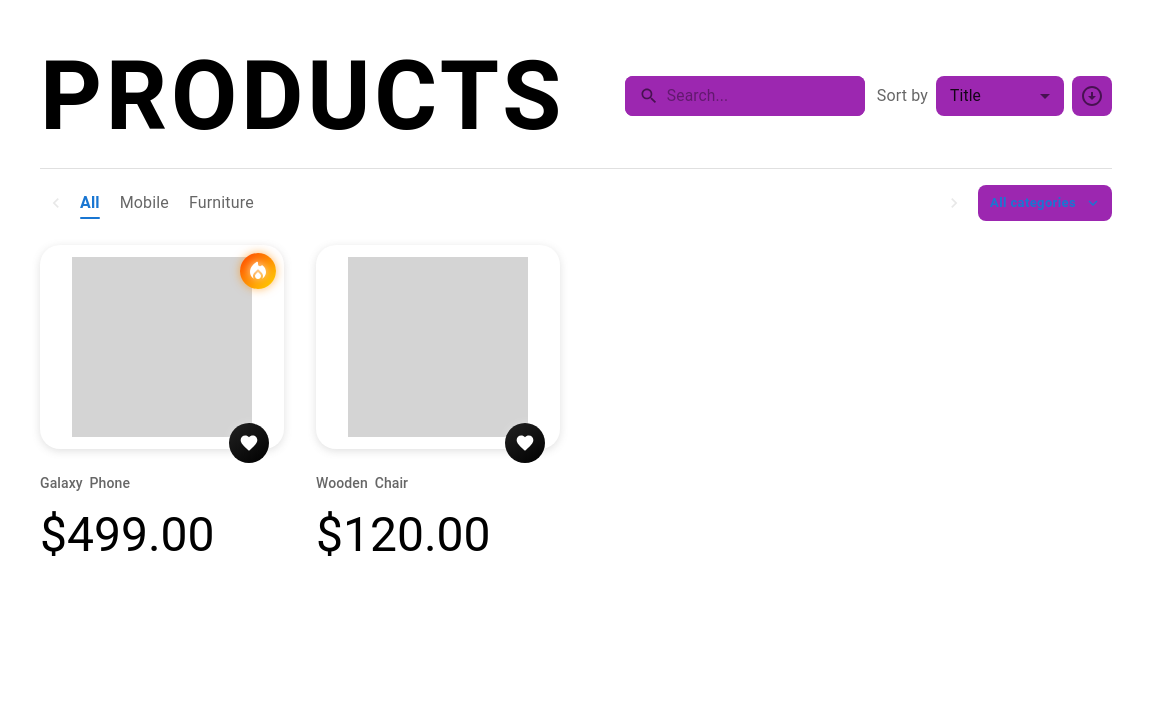
Home Products › filters products by search
Check: the heading "Galaxy Phone" is shown, box 40,475 -> 130,491
Step 1. Type "chair" into the field with placeholder "Search..." → (766, 96), box 667,79 -> 865,113
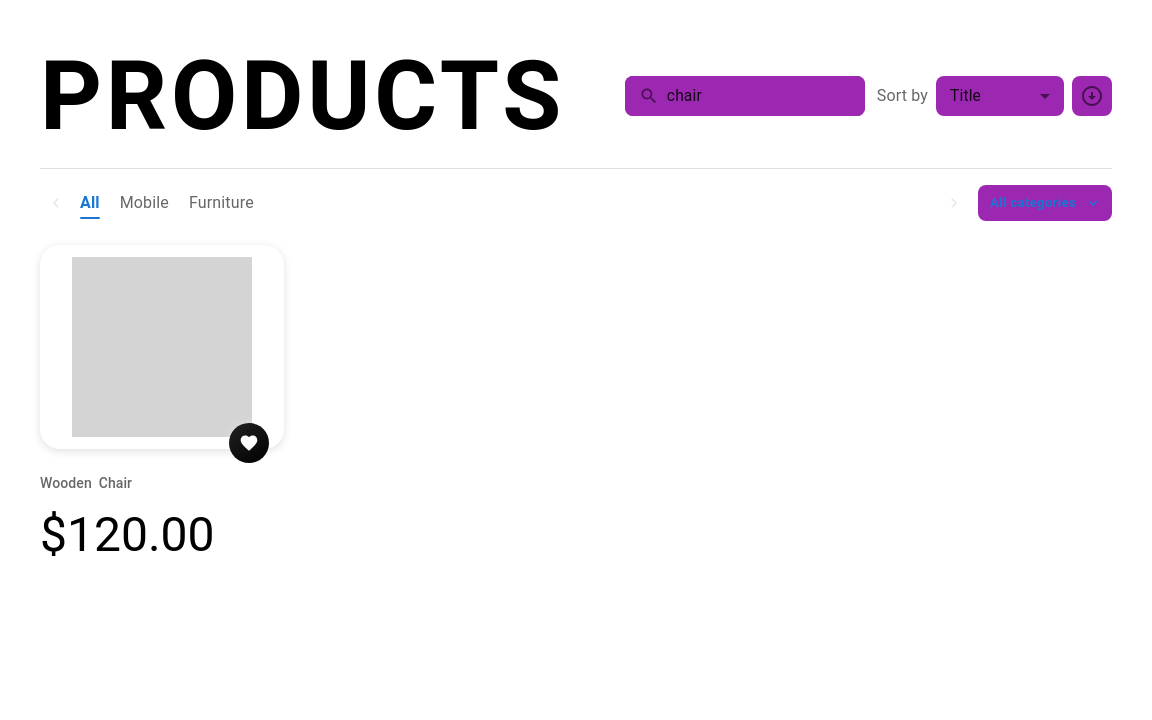
Check: the heading "Wooden Chair" is shown, box 40,475 -> 132,491
Check: the link "Galaxy Phone" is gone
